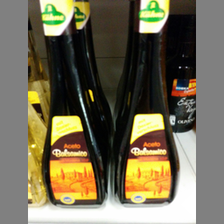vinegar: (37, 1, 110, 206), (116, 1, 179, 207)
